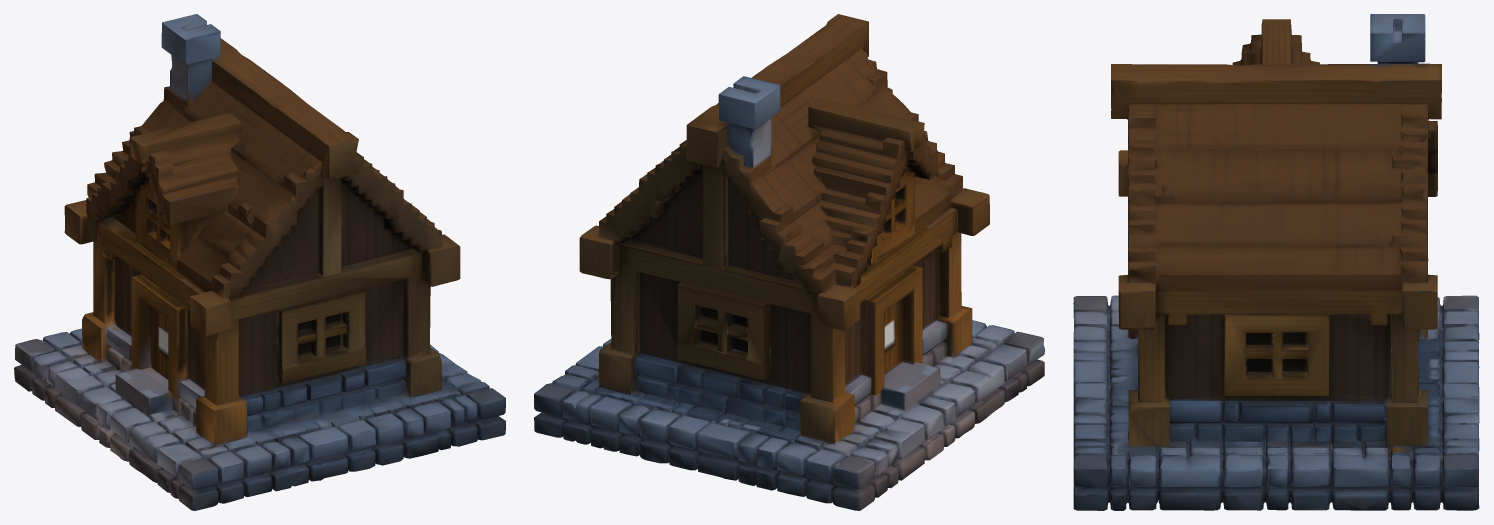
Rendered from village _house_t4.glb.
3 views of the same model, side by side, from view 1: azimuth 30°, elevation 25°; view 2: azimuth 150°, elevation 25°; view 3: azimuth 270°, elevation 25° (orthographic). The views are drawn at different scales.
Visible parts, largest first — view 1: node_0; view 2: node_0; view 3: node_0.
Boxes of the visible parts, box(x1,y1,x2,y2) form: node_0: box(14, 14, 505, 510); node_0: box(534, 14, 1044, 510); node_0: box(1073, 14, 1479, 510).
Bounding box in the file's own units: 0.6875 × 0.7245 × 0.6789.
1 material, 1 textured.
